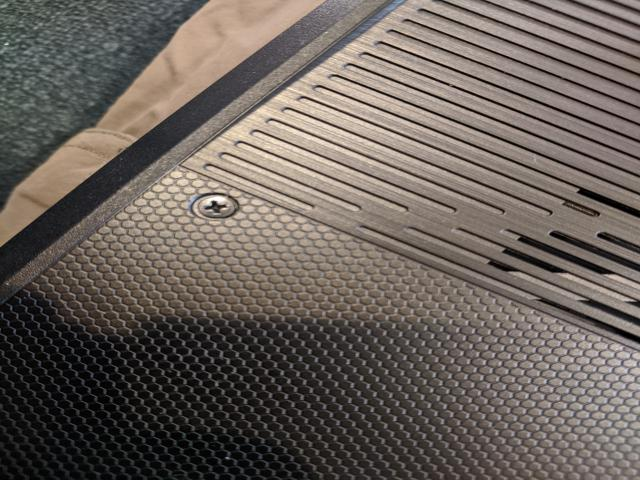CRS: (195, 194, 238, 220)
